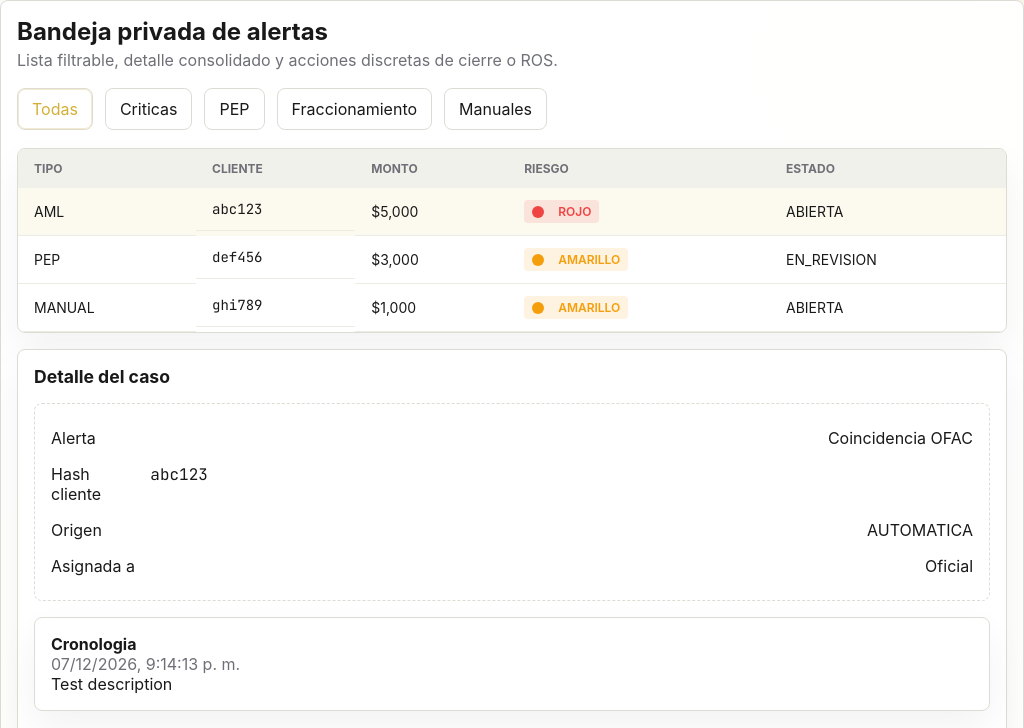
Scenario: AlertsPage › filters by PEP
The width and height of the screenshot is (1024, 728).
Click the button "PEP": (235, 109) top-left (204, 88), bottom-right (265, 130)
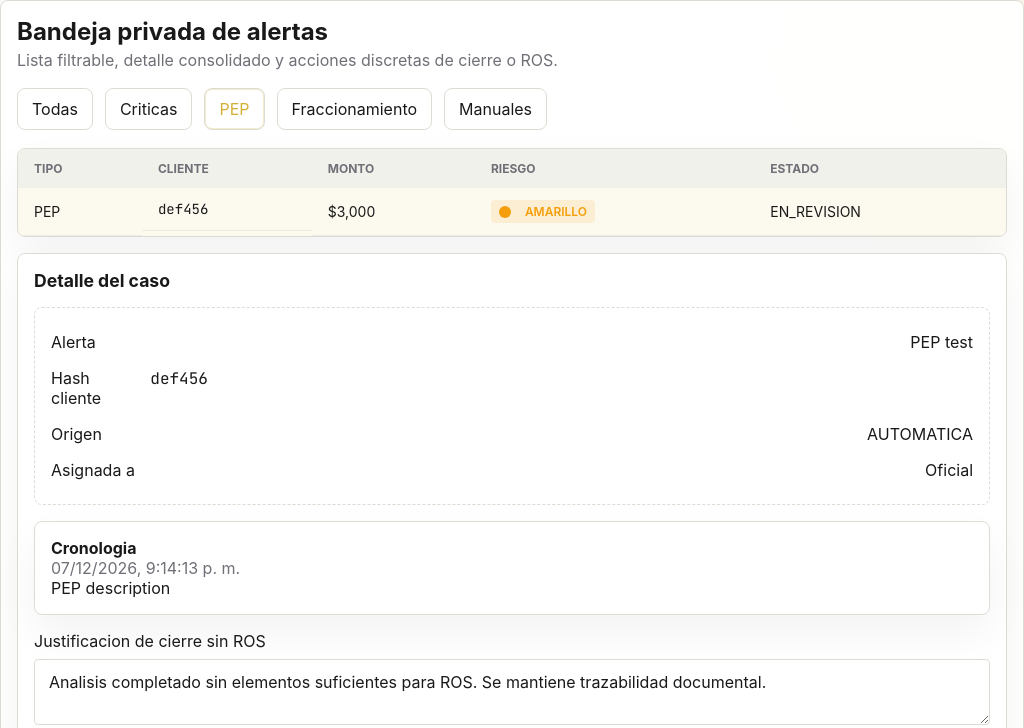
expect the text "AML" is gone: met
